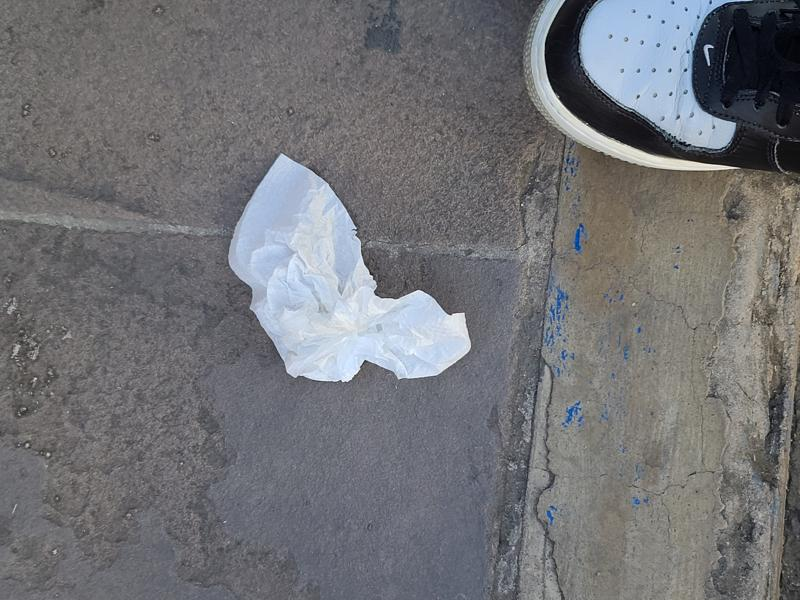papel: (227, 156, 473, 385)
